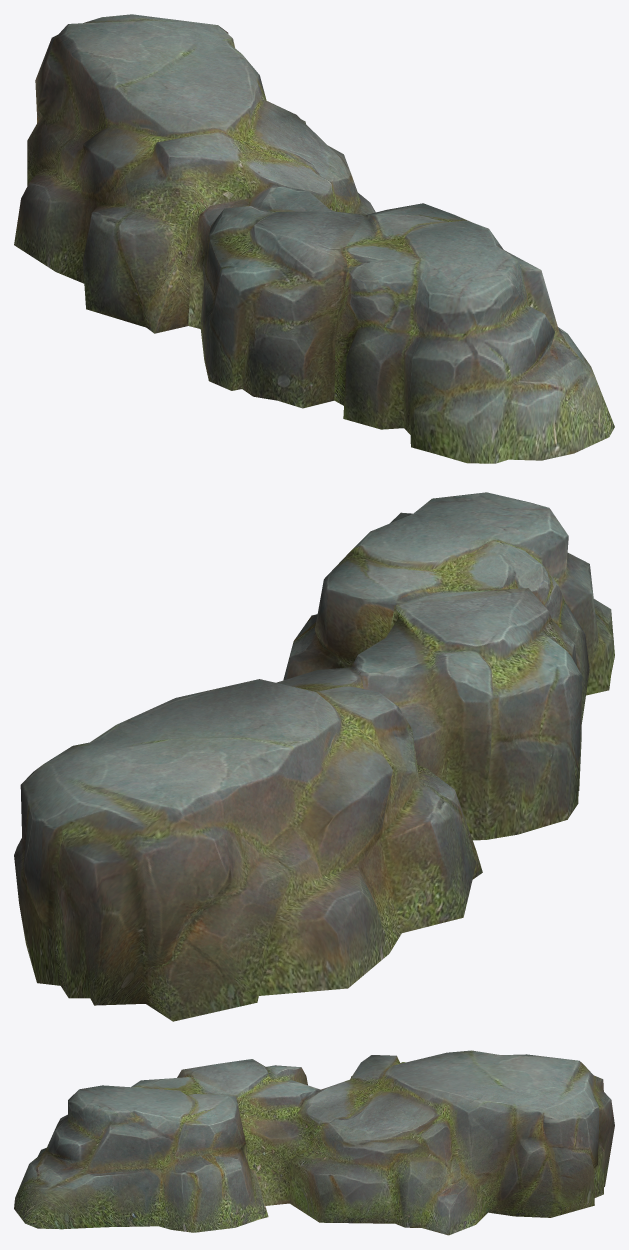
Rendered from wlf_shitou04_w.FBX.
3 views of the same model, one above another, from view 1: azimuth 30°, elevation 25°; view 2: azimuth 150°, elevation 25°; view 3: azimuth 270°, elevation 25° (orthographic). The views are drawn at different scales.
Parts seen in each view (by area): view 1: wlf_shitou04_w; view 2: wlf_shitou04_w; view 3: wlf_shitou04_w.
Boxes of the visible parts, <box> form: wlf_shitou04_w: <box>14,14,614,463</box>; wlf_shitou04_w: <box>14,492,614,1021</box>; wlf_shitou04_w: <box>14,1050,614,1235</box>.
Bounding box in the file's own units: 85.44 × 44.77 × 214.
